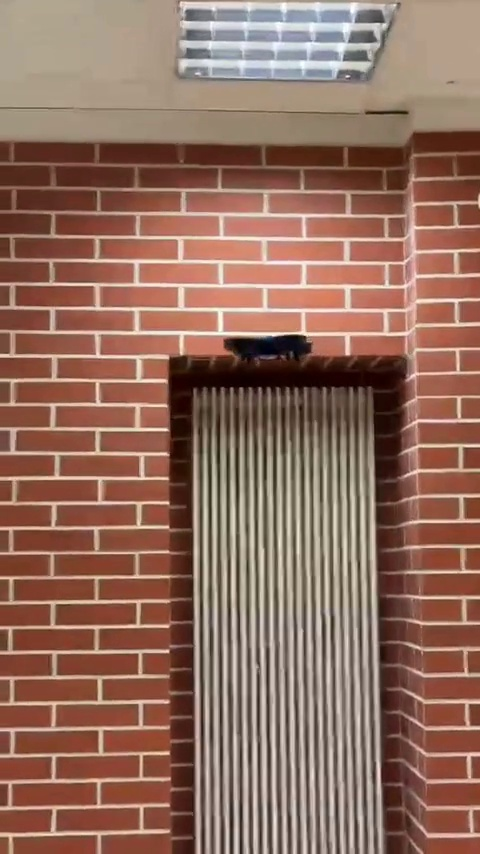drone: (216, 331, 313, 363)
